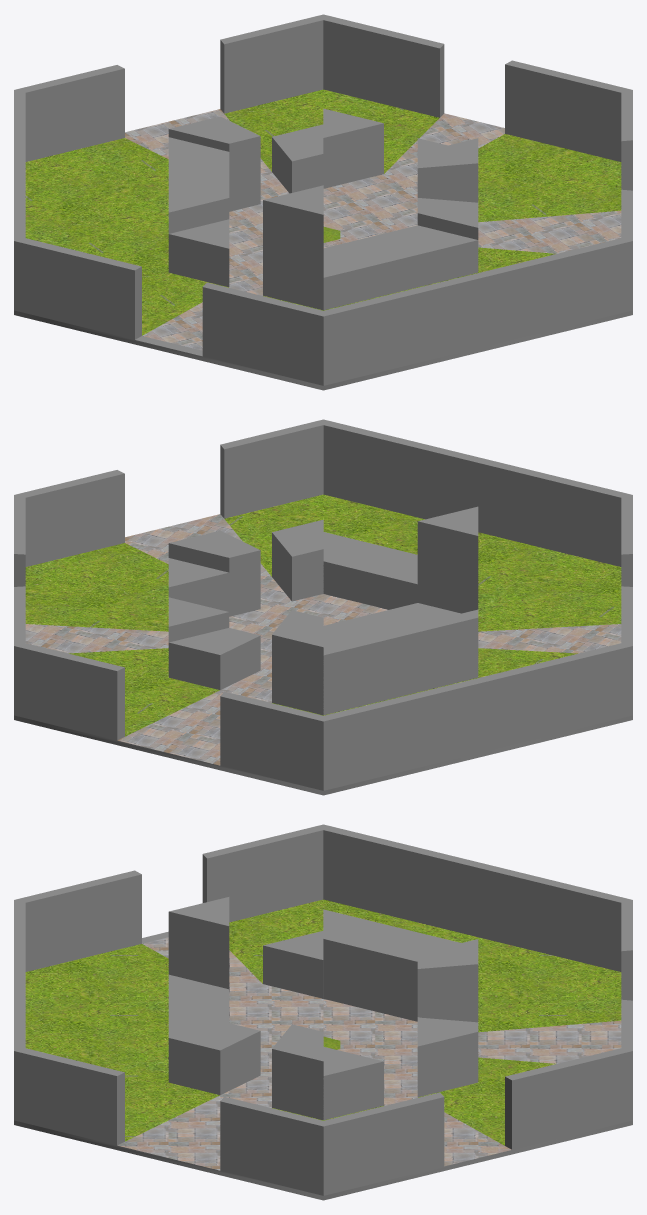
3 renders of one model, top to bottom at view 1: azimuth 30°, elevation 25°; view 2: azimuth 150°, elevation 25°; view 3: azimuth 270°, elevation 25°, orthographic.
Visible parts, largest first — view 1: Cylinder027; view 2: Cylinder027; view 3: Cylinder027.
Part boxes in pixels (x1,y1,x2,y2): Cylinder027: (14,14,632,390); Cylinder027: (14,419,632,795); Cylinder027: (14,824,632,1200).
Size of the model in its own units: 140 by 21.66 by 121.
5 materials, 2 textured.
